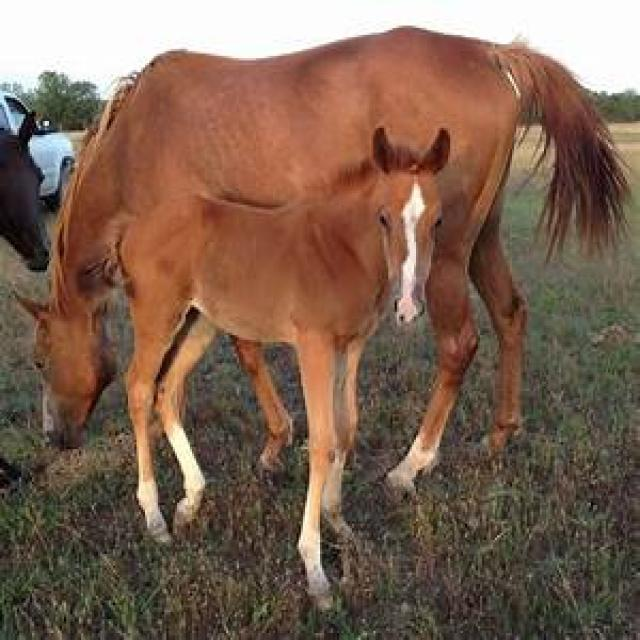horse: (31, 29, 629, 486), (119, 128, 450, 601)
